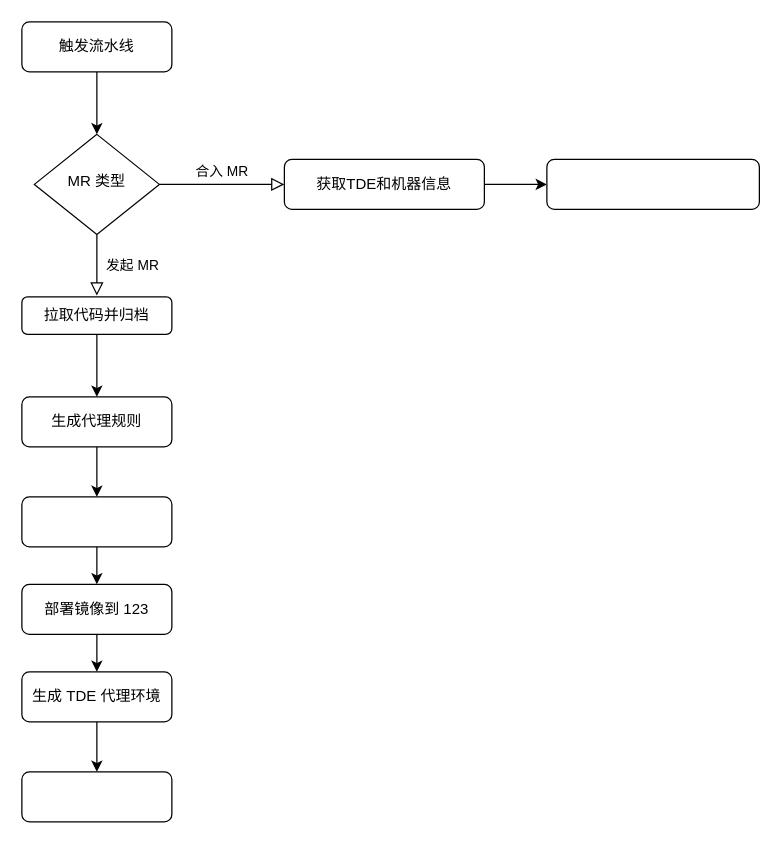
This 781x844 diagram has some shape labels left out. The centre of each missing label's shape, as x and y in pixels:
"删除测试机器和TDE环境" belongs at point 652,183.
"编译并构建镜像" belongs at point 96,521.
"记录机器信息到无极" belongs at point 96,796.
